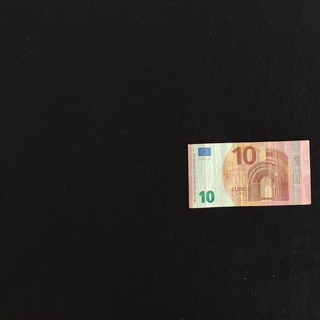10EUROFront: (187, 139, 311, 208)
